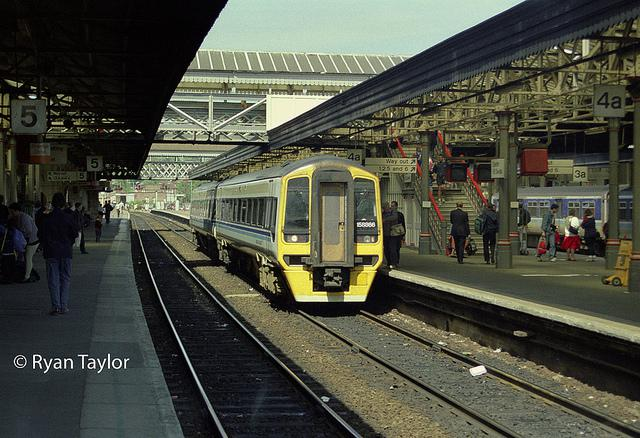Train: (188, 159, 386, 305), (486, 184, 637, 251)
